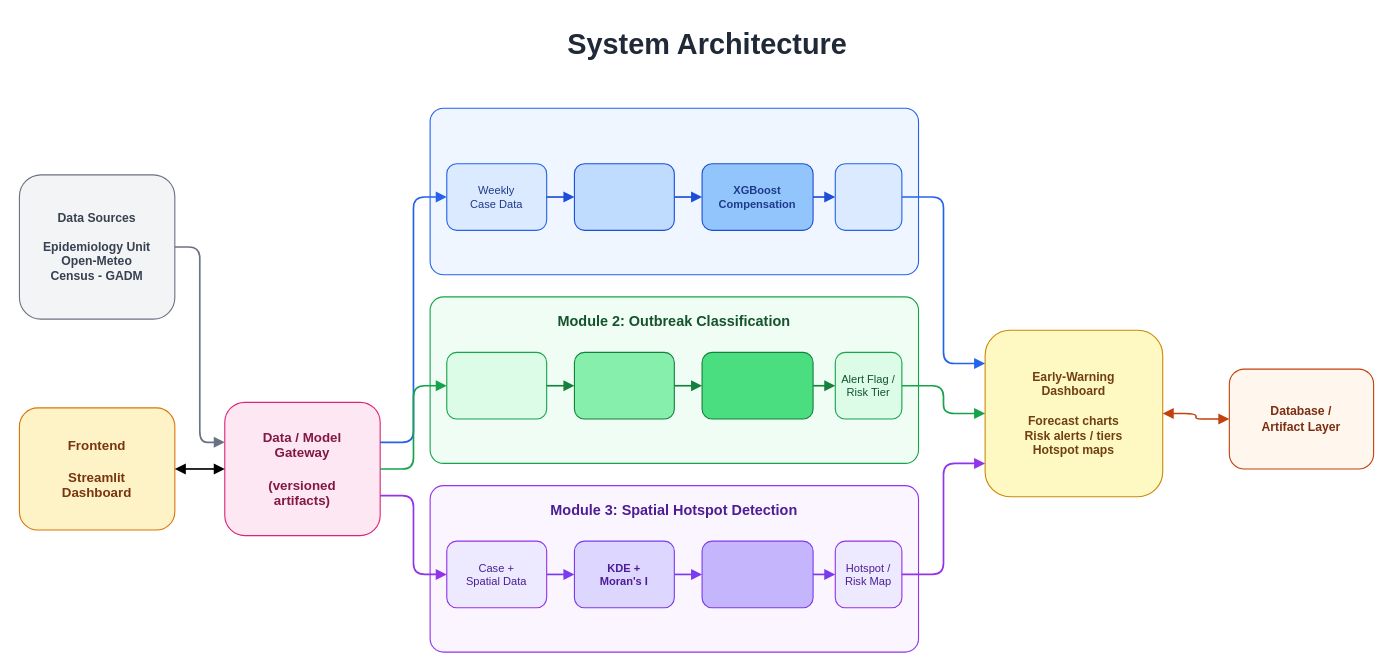
The diagram is 1393 pixels wide and 672 high, and some of its shapes have lost their labels. The shapes that lost their labels are listed below. From the top down, each one's box as (x1, y1, x2, y2) in pixels, then its label:
(573, 163, 674, 230): SARIMA Baseline
(429, 107, 919, 275): Module 1: Case Forecasting
(834, 163, 902, 230): Compensated Forecast
(446, 351, 547, 419): Case + Climate Data
(573, 351, 674, 419): Random Forest Classifier
(701, 351, 813, 419): Platt Scaling Calibration
(701, 540, 813, 608): Random Forest Spatial Residual
